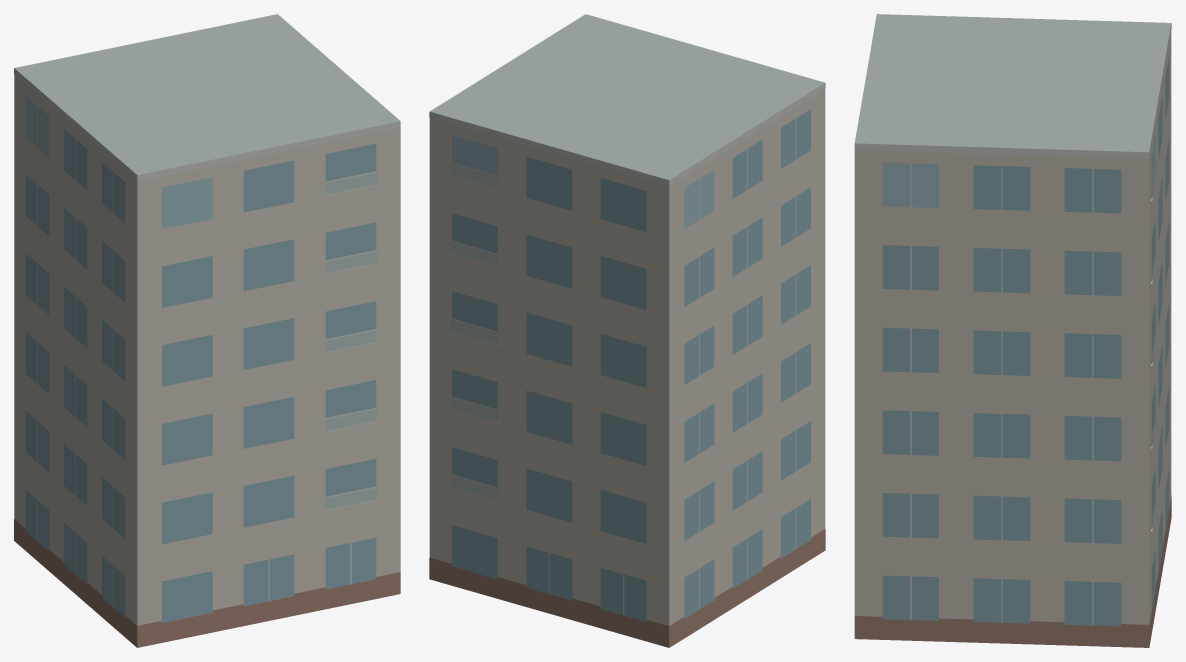
File: survey-upis-32664529.glb
3 views of the same model, side by side, from view 1: azimuth 30°, elevation 25°; view 2: azimuth 150°, elevation 25°; view 3: azimuth 270°, elevation 25° (orthographic). The views are drawn at different scales.
Visible parts, largest first — view 1: survey-upis-32664529.tmp; view 2: survey-upis-32664529.tmp; view 3: survey-upis-32664529.tmp.
Boxes of the visible parts, x1,y1,x2,y2 form: survey-upis-32664529.tmp: (14,14,400,647); survey-upis-32664529.tmp: (429,14,825,647); survey-upis-32664529.tmp: (854,14,1171,647).
Bounding box in the file's own units: 10.78 × 18 × 10.44.
